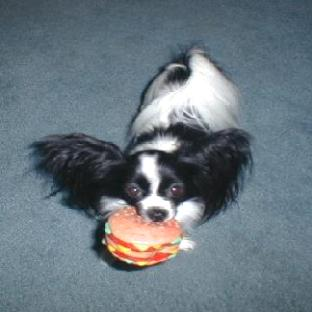Animal: (34, 48, 251, 250)
